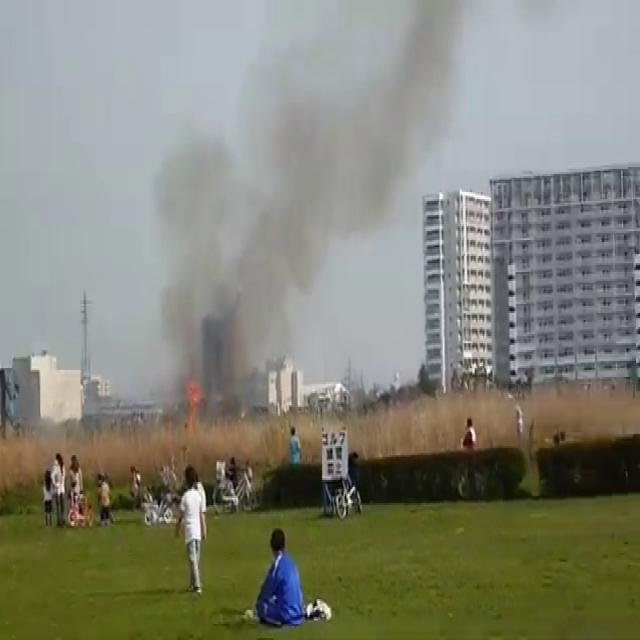Smoke: (142, 1, 414, 427)
